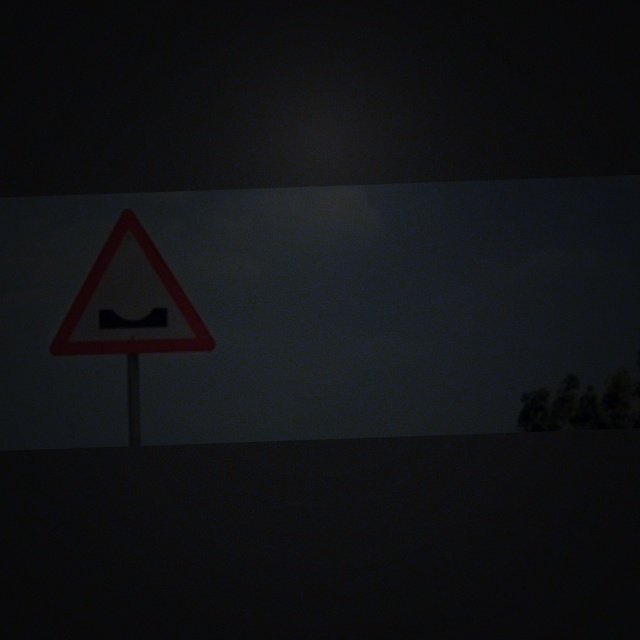Dangerous_Dip: (49, 207, 217, 357)
